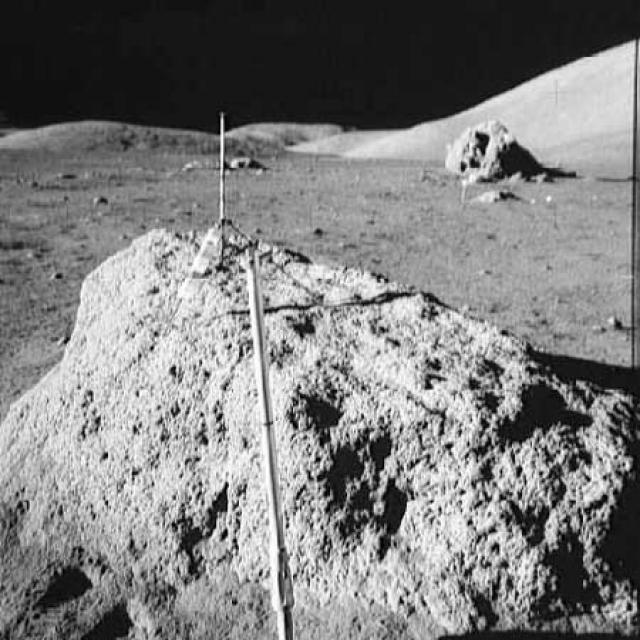artifact: (229, 246, 327, 639), (168, 102, 296, 289)
crater: (0, 217, 86, 259)
rock: (438, 108, 550, 186), (236, 144, 274, 174)
